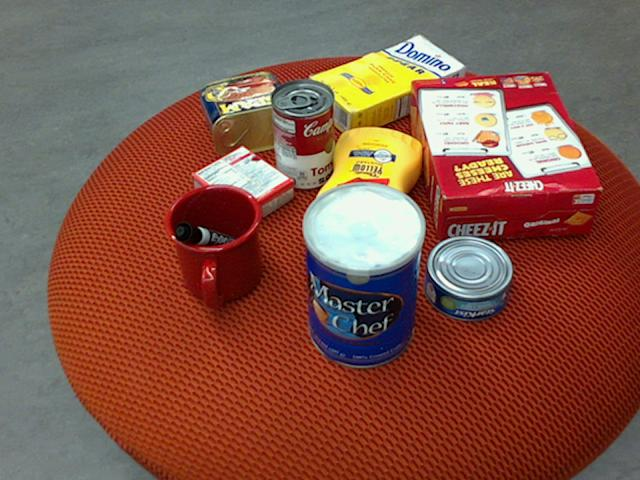cracker_box: (409, 71, 602, 239)
gelatin_box: (190, 144, 292, 230)
large_marker: (173, 223, 248, 256)
master_chef_can: (301, 184, 422, 369)
mug: (162, 184, 262, 308)
mustard_bottle: (313, 126, 423, 272)
potted_meat_can: (201, 70, 301, 156)
sugar_box: (307, 34, 466, 137)
tomato_soup_can: (271, 77, 335, 188)
tuna_fish_can: (424, 234, 514, 321)
